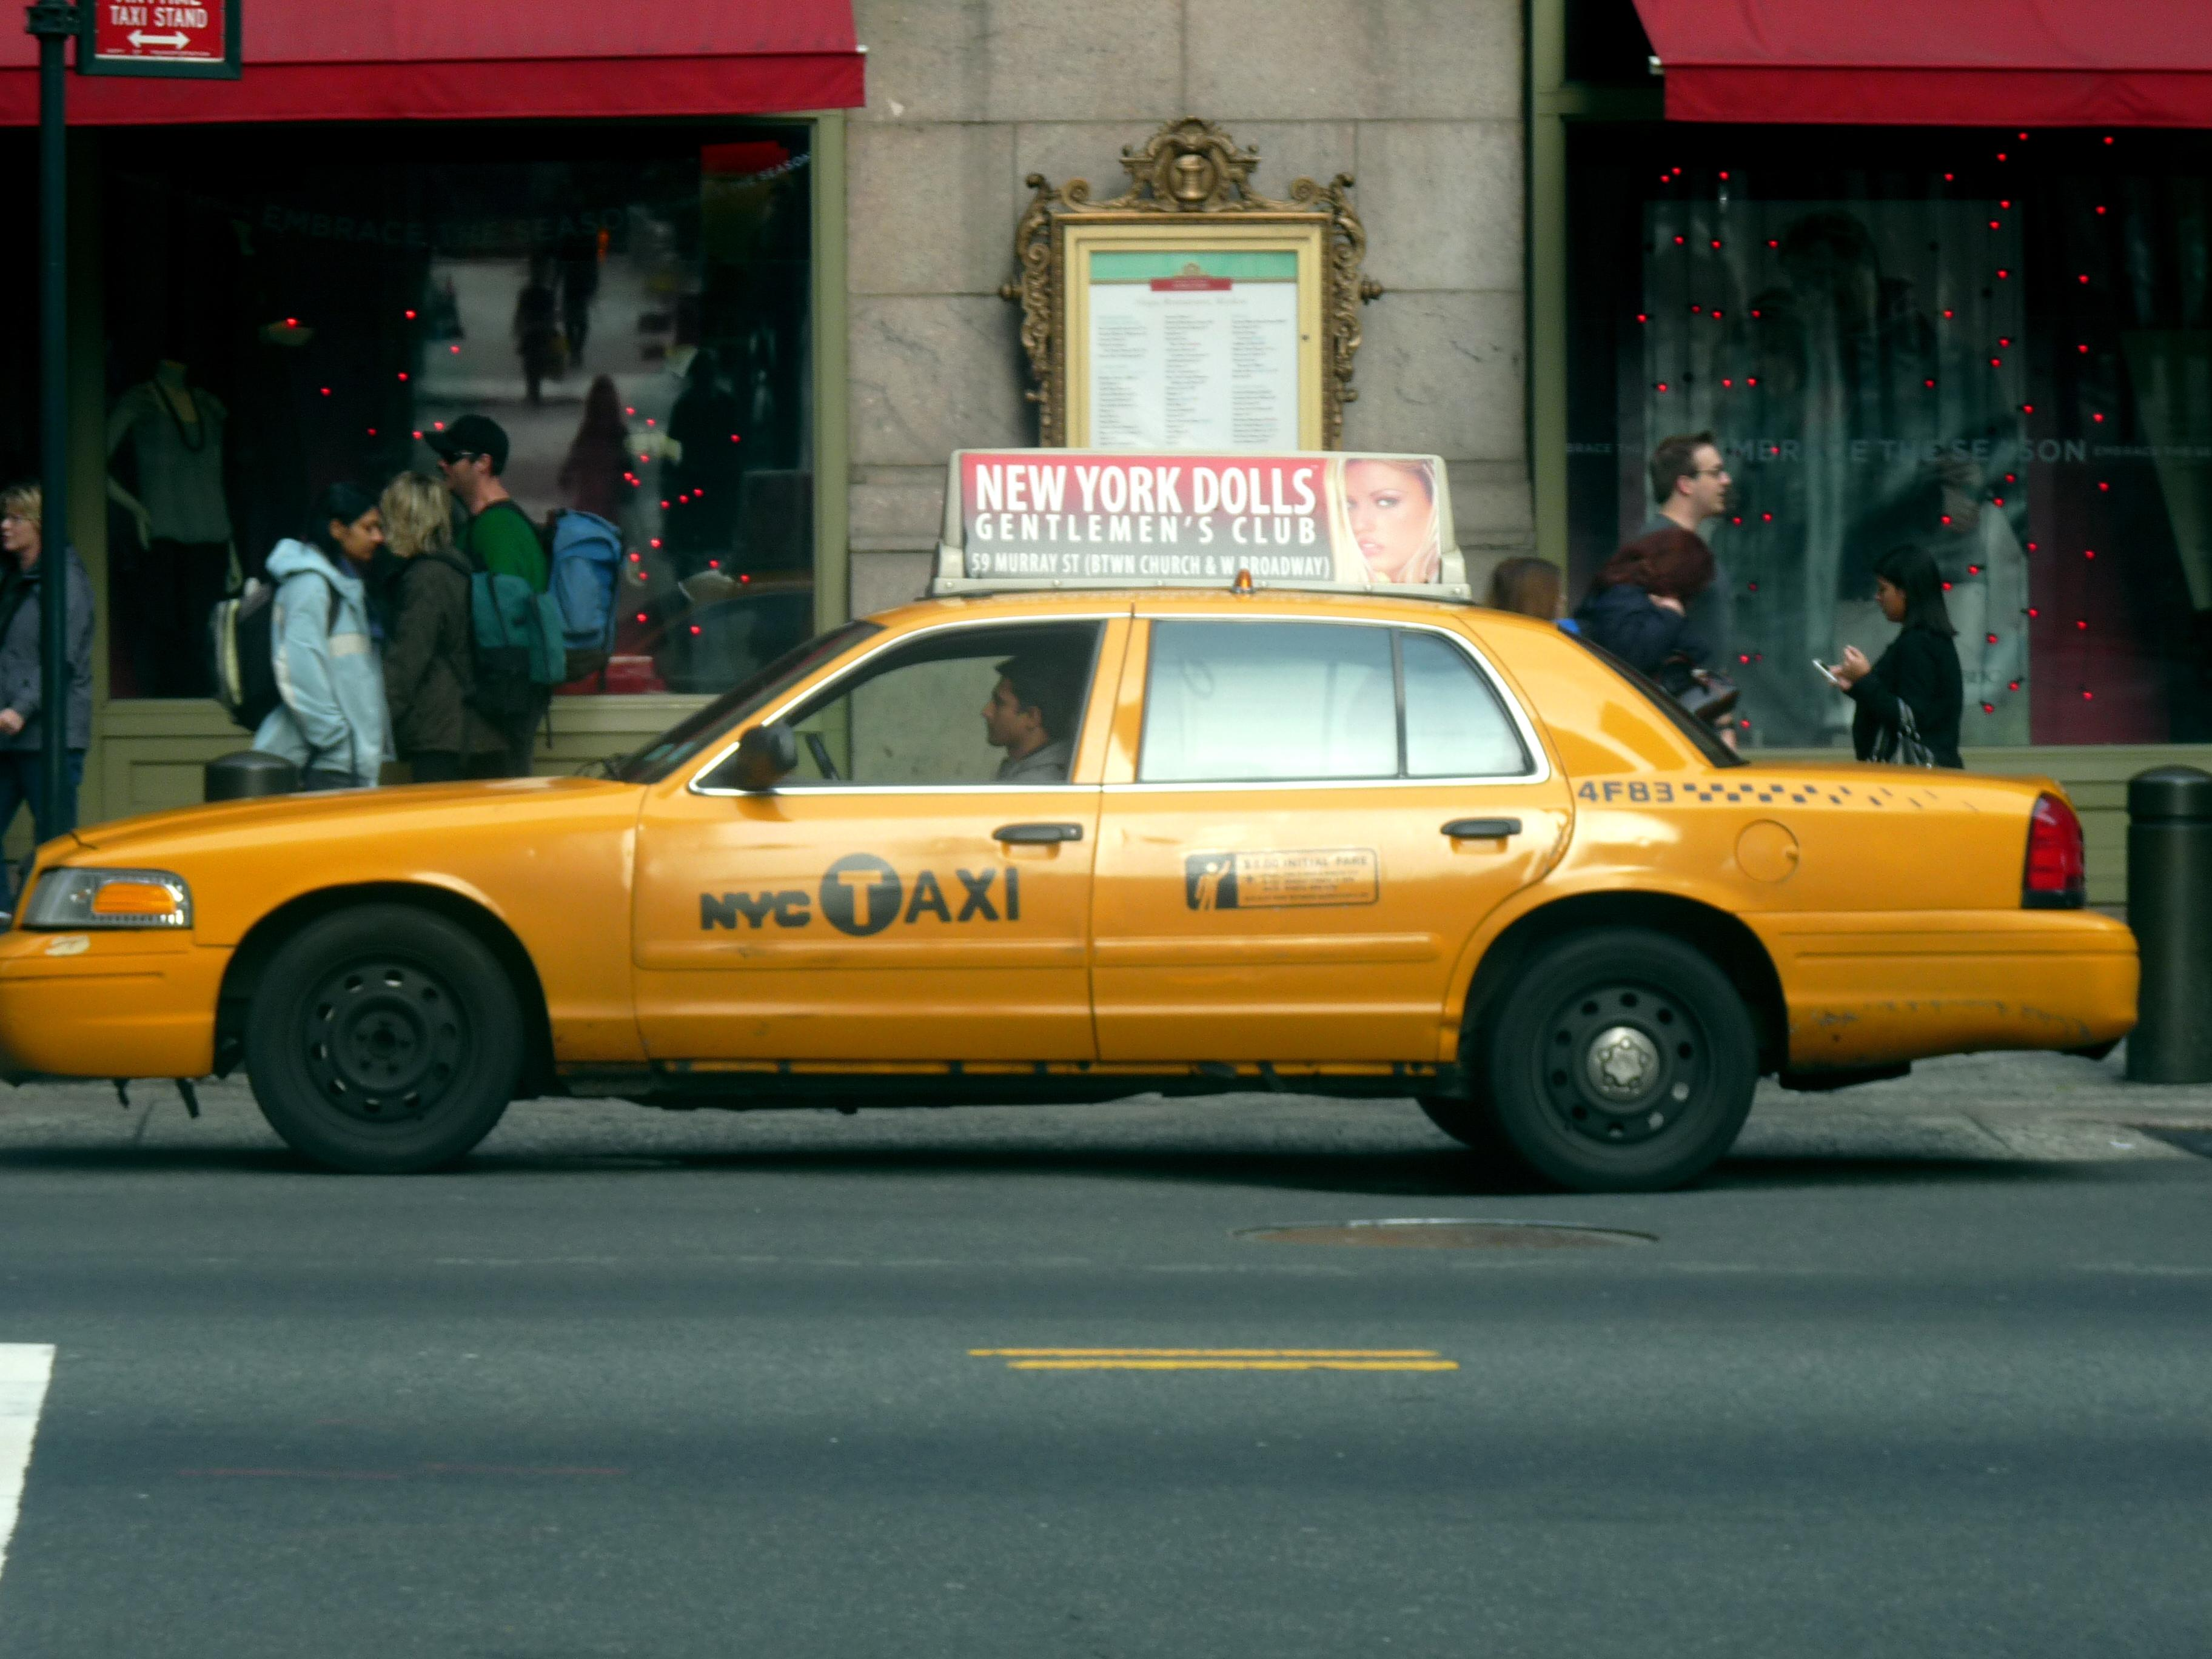taxi: (12, 483, 2195, 1220)
